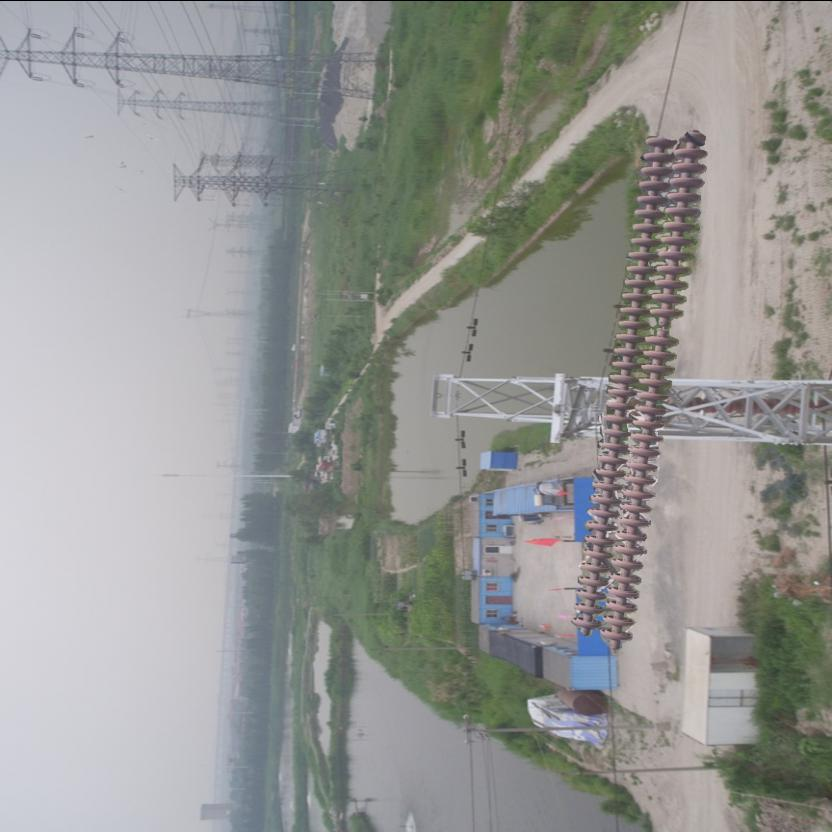defect: (642, 302, 686, 349)
